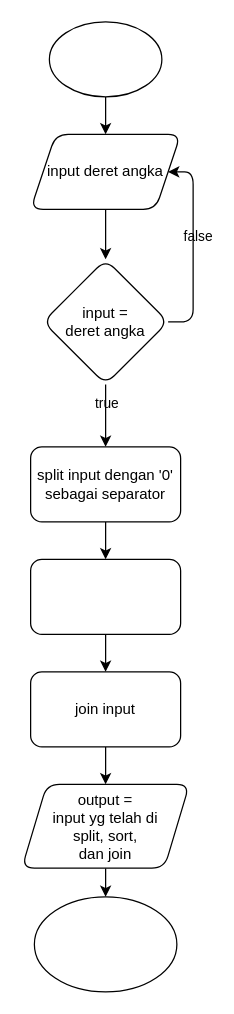
This 234x1014 diagram has some shape labels left out. The box of each missing label's shape, as (x1, y1, x2, y2) in pixels:
end: (33, 896, 177, 992)
sort input: (29, 558, 181, 634)
start: (48, 21, 162, 97)
